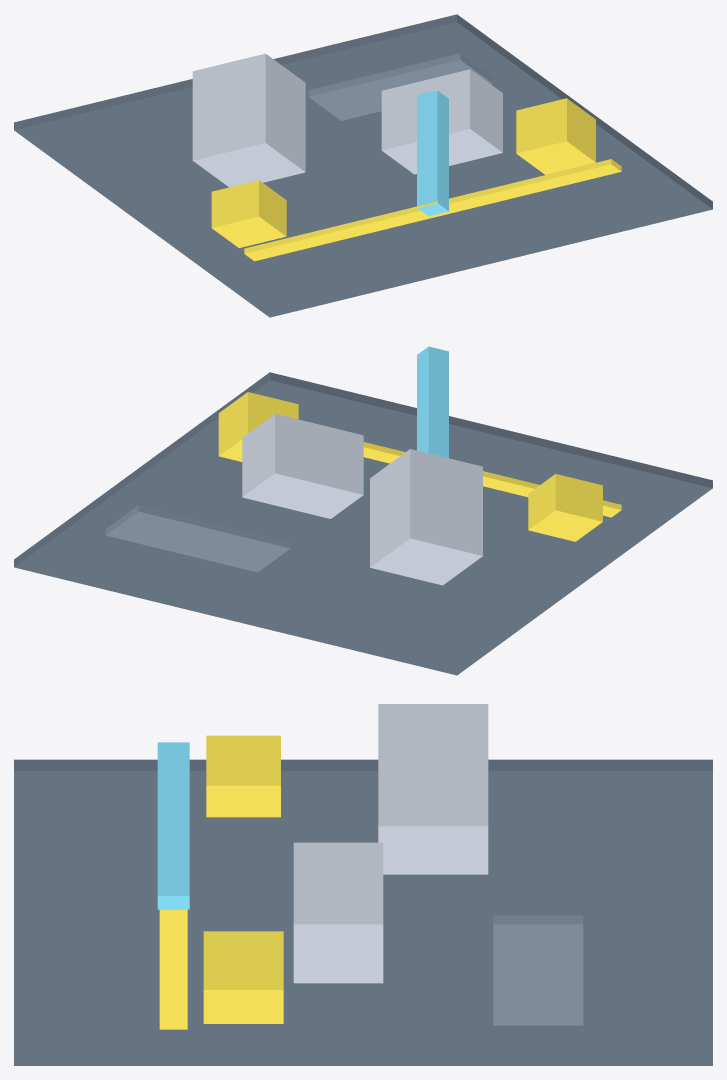
File: airport-delay.glb
3 views of the same model, one above another, from view 1: azimuth 30°, elevation 25°; view 2: azimuth 150°, elevation 25°; view 3: azimuth 270°, elevation 25° (orthographic). The views are drawn at different scales.
Visible parts, largest first — view 1: environment floor, main structure, secondary structure, route layer, context block b, environment plane, context block a, observation marker; view 2: environment floor, main structure, secondary structure, environment plane, context block a, observation marker, context block b, route layer; view 3: environment floor, main structure, secondary structure, environment plane, context block b, context block a, observation marker, route layer.
Part boxes in pixels (box(x1,y1,x2,y2)): environment floor: box(14, 14, 712, 317); main structure: box(192, 53, 305, 187); secondary structure: box(381, 69, 502, 174); route layer: box(244, 159, 621, 261); context block b: box(516, 98, 595, 174); environment plane: box(308, 53, 493, 120); context block a: box(211, 180, 286, 247); observation marker: box(417, 90, 448, 216); environment floor: box(14, 372, 712, 675); main structure: box(370, 449, 482, 585); secondary structure: box(242, 414, 363, 518); environment plane: box(105, 505, 290, 572); context block a: box(528, 474, 602, 541); observation marker: box(417, 346, 448, 458); context block b: box(218, 392, 298, 461); route layer: box(363, 442, 621, 517); environment floor: box(14, 759, 712, 1065); main structure: box(378, 704, 488, 874); secondary structure: box(293, 842, 383, 983); environment plane: box(493, 915, 583, 1025); context block b: box(203, 931, 283, 1023); context block a: box(206, 735, 280, 817); observation marker: box(157, 742, 189, 909); route layer: box(159, 909, 187, 1029).
Bounding box in the file's own units: 7 × 1.87 × 7.
